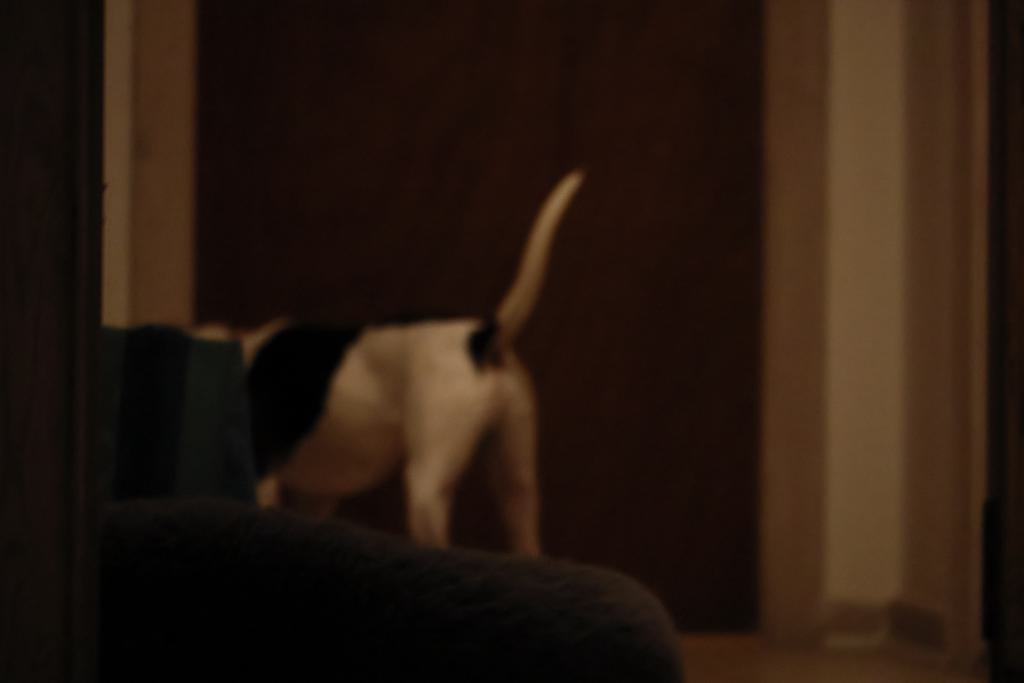Dog: (181, 158, 592, 572)
